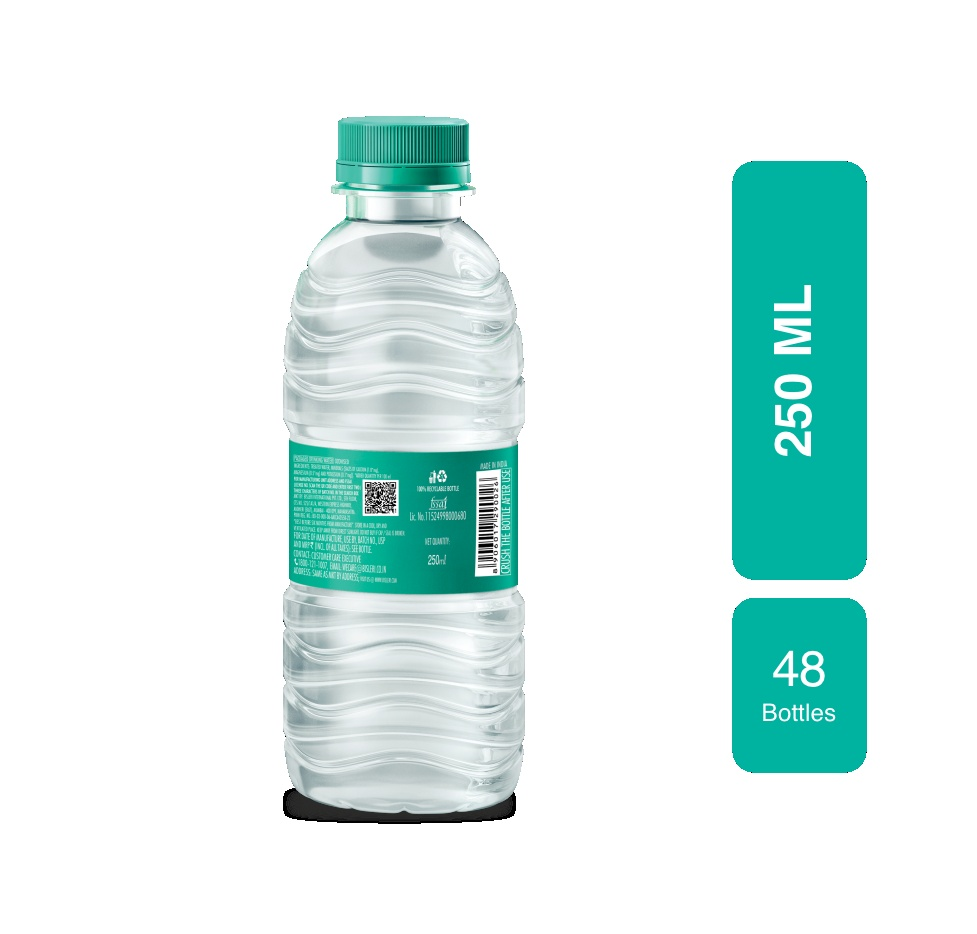Bisleri-water: (279, 111, 532, 834)
